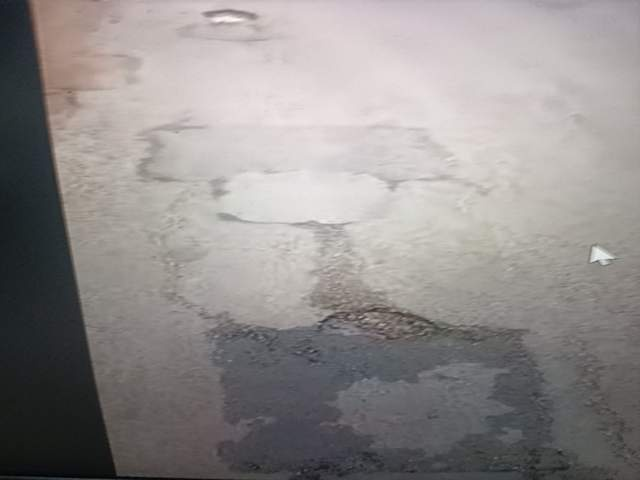pothole: (539, 403, 640, 480)
